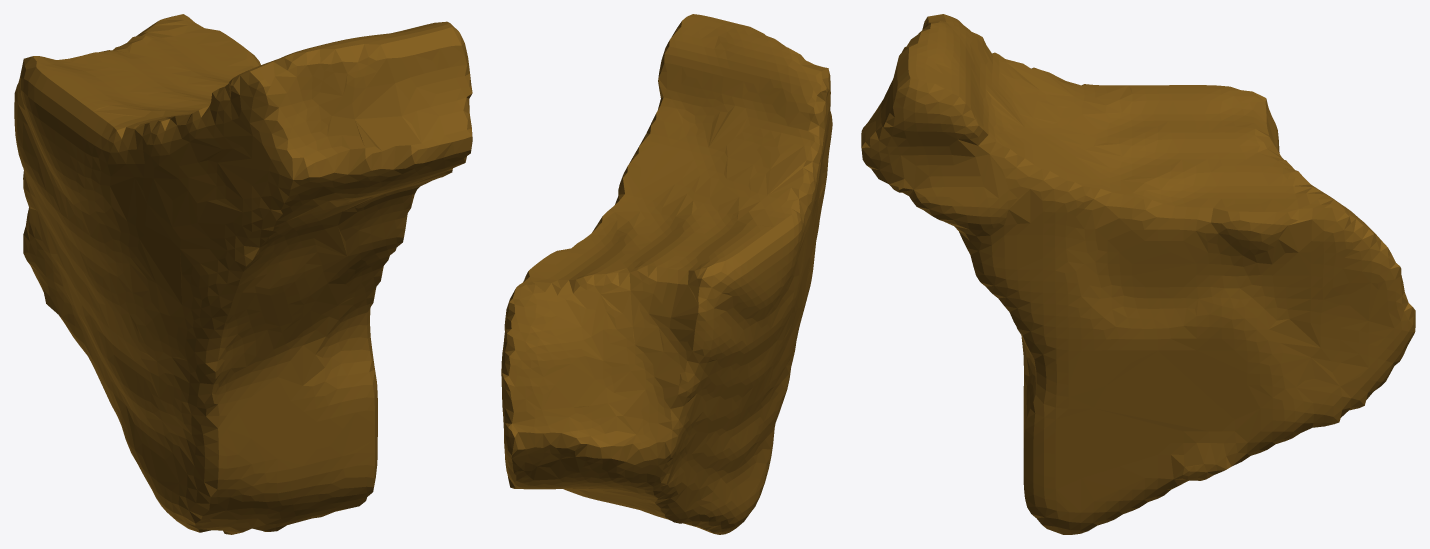
Rendered from Model_10052_LH__Area_19_of_cortex__medial_part_(A19M).obj.
The picture shows the model from 3 angles, left to right: view 1: azimuth 30°, elevation 25°; view 2: azimuth 150°, elevation 25°; view 3: azimuth 270°, elevation 25°; orthographic projection. The views are drawn at different scales.
Size of the model in its own units: 2.01 by 4.08 by 4.35.
